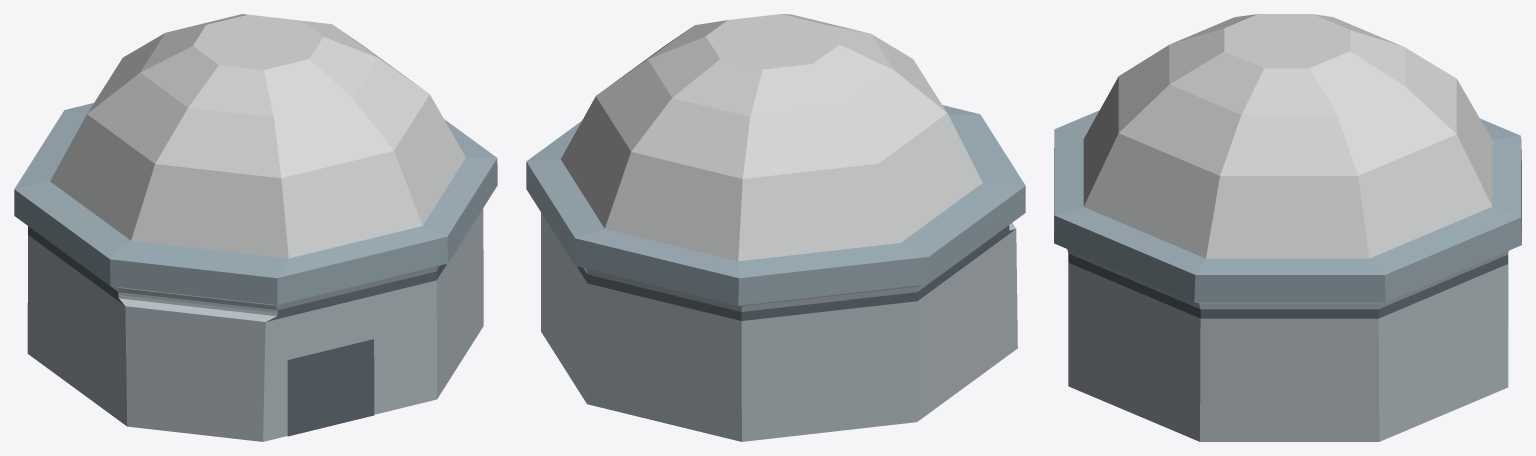
The model's file is loin.glb.
The picture shows the model from 3 angles, left to right: view 1: azimuth 30°, elevation 25°; view 2: azimuth 150°, elevation 25°; view 3: azimuth 270°, elevation 25°; orthographic projection. The views are drawn at different scales.
Parts seen in each view (by area): view 1: loin; view 2: loin; view 3: loin.
Part boxes in pixels (bbox=[...]): loin: bbox=[14, 14, 497, 441]; loin: bbox=[526, 14, 1025, 441]; loin: bbox=[1054, 14, 1521, 441].
Bounding box in the file's own units: 0.8359 × 0.6037 × 0.8296.
